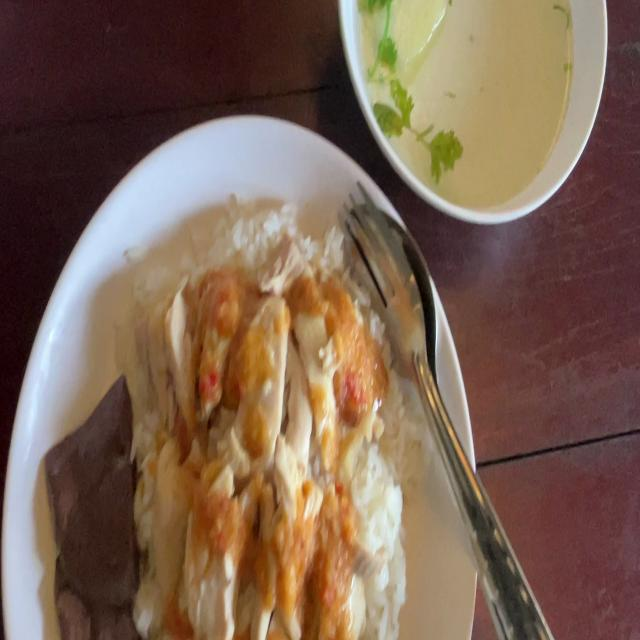chicken_rice: (153, 292, 360, 614)
noodle: (51, 382, 141, 605), (50, 556, 140, 639)
